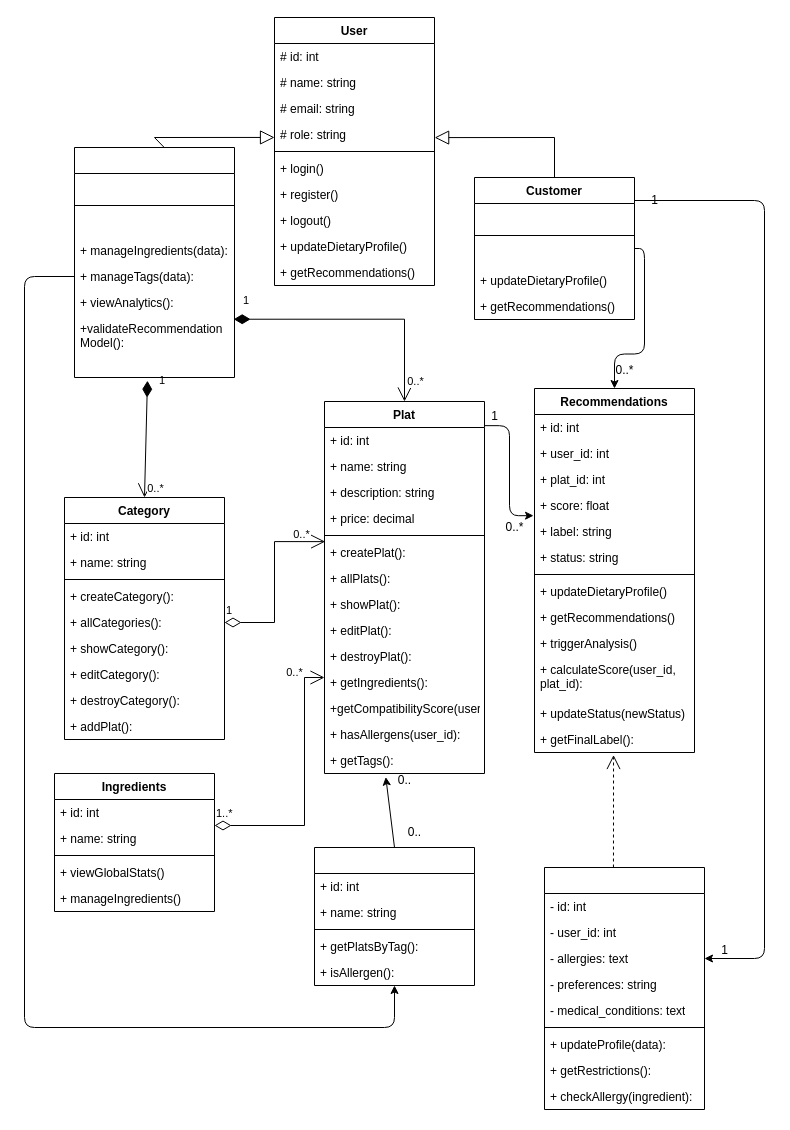
The diagram is 790 pixels wide and 1130 high, and some of its shapes have lost their labels. Here are the shapes that lost their labels. From the top down, the box of each, then its label:
(74, 146, 234, 378): Admin
(314, 846, 474, 986): Tags
(544, 866, 704, 1110): Dietary Profile
